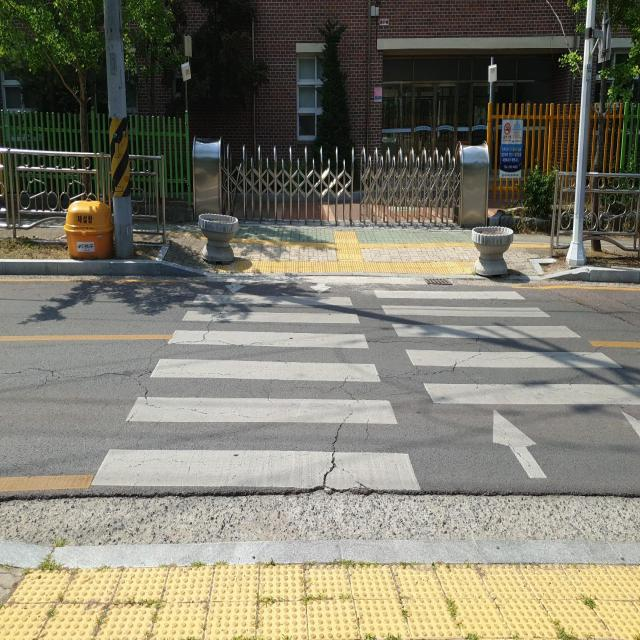횡단보도: (89, 279, 640, 495)
